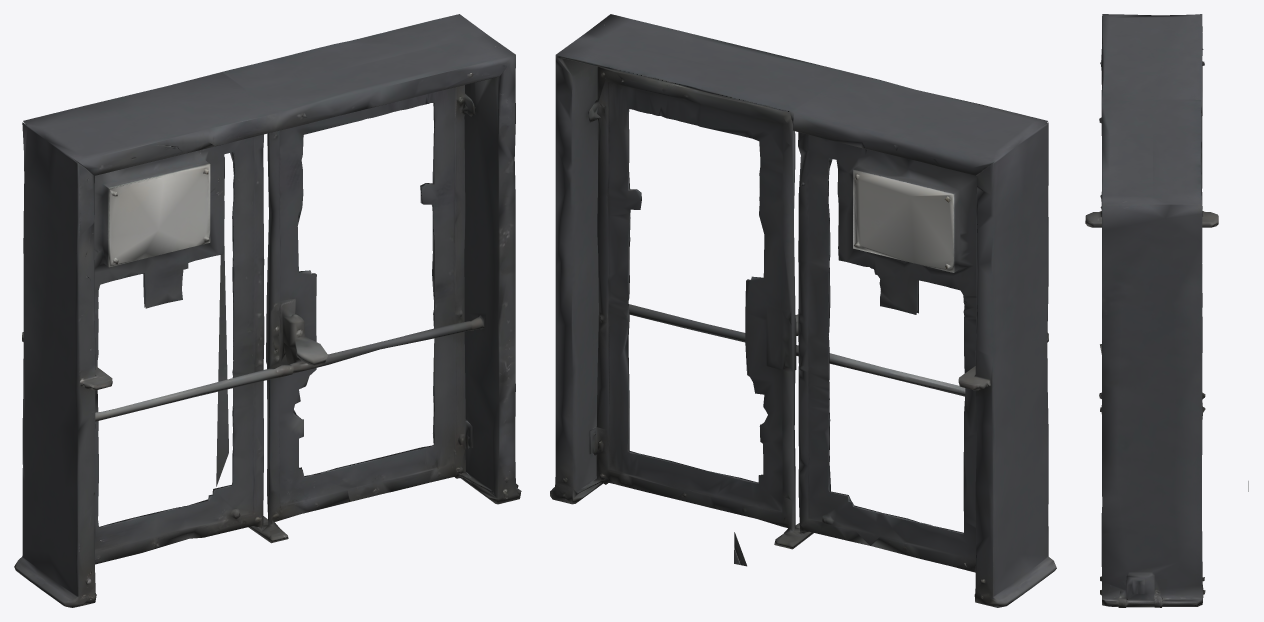
File: level1-double-door.glb
3 views of the same model, side by side, from view 1: azimuth 30°, elevation 25°; view 2: azimuth 150°, elevation 25°; view 3: azimuth 270°, elevation 25° (orthographic). The views are drawn at different scales.
Parts seen in each view (by area): view 1: tripo_node_d6cd6b2a-30e2-4d0d-8cc8-f2f97531576d; view 2: tripo_node_d6cd6b2a-30e2-4d0d-8cc8-f2f97531576d; view 3: tripo_node_d6cd6b2a-30e2-4d0d-8cc8-f2f97531576d.
Boxes of the visible parts, x1,y1,x2,y2 form: tripo_node_d6cd6b2a-30e2-4d0d-8cc8-f2f97531576d: (14,14,521,607); tripo_node_d6cd6b2a-30e2-4d0d-8cc8-f2f97531576d: (550,14,1056,607); tripo_node_d6cd6b2a-30e2-4d0d-8cc8-f2f97531576d: (1085,14,1248,607).
Bounding box in the file's own units: 0.9785 × 0.9094 × 0.3373.
1 material, 1 textured.
